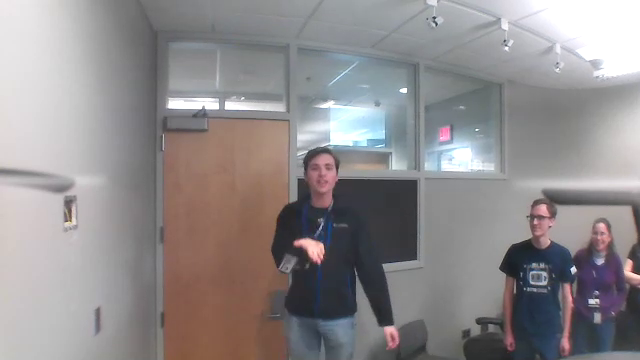land: (288, 235, 331, 268)
